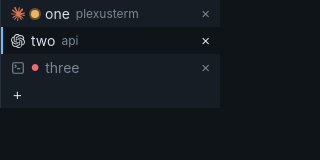
TabBar › DEV tab column (S13) › keeps the attention and logging marks and the right-click menu
The image size is (320, 160).
expect the tab named "Needs attention" shows "one": met, box top-left (1, 0), bottom-right (220, 27)
expect the tab named "Logging to file" shows "three": met, box top-left (1, 54), bottom-right (220, 81)
Right-click the tab "two api ×": [110, 40] box top-left (1, 27), bottom-right (220, 54)
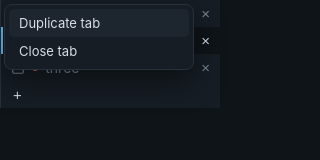
expect the menu item "Duplicate tab" is shown: met, box top-left (9, 9), bottom-right (189, 37)
